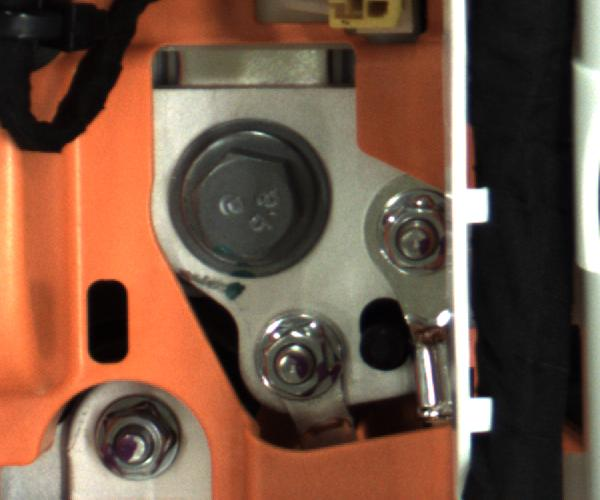nut_b: (162, 136, 344, 277)
screw_s: (76, 397, 202, 483), (367, 191, 475, 280), (263, 316, 346, 401)
